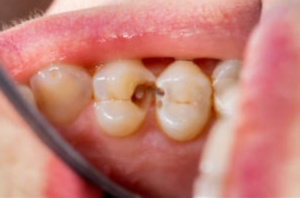Caries: (123, 78, 168, 114)
